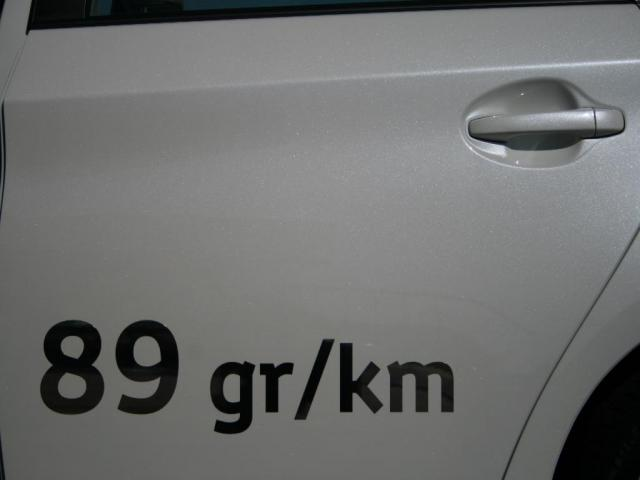Door-handle: (462, 100, 622, 140)
